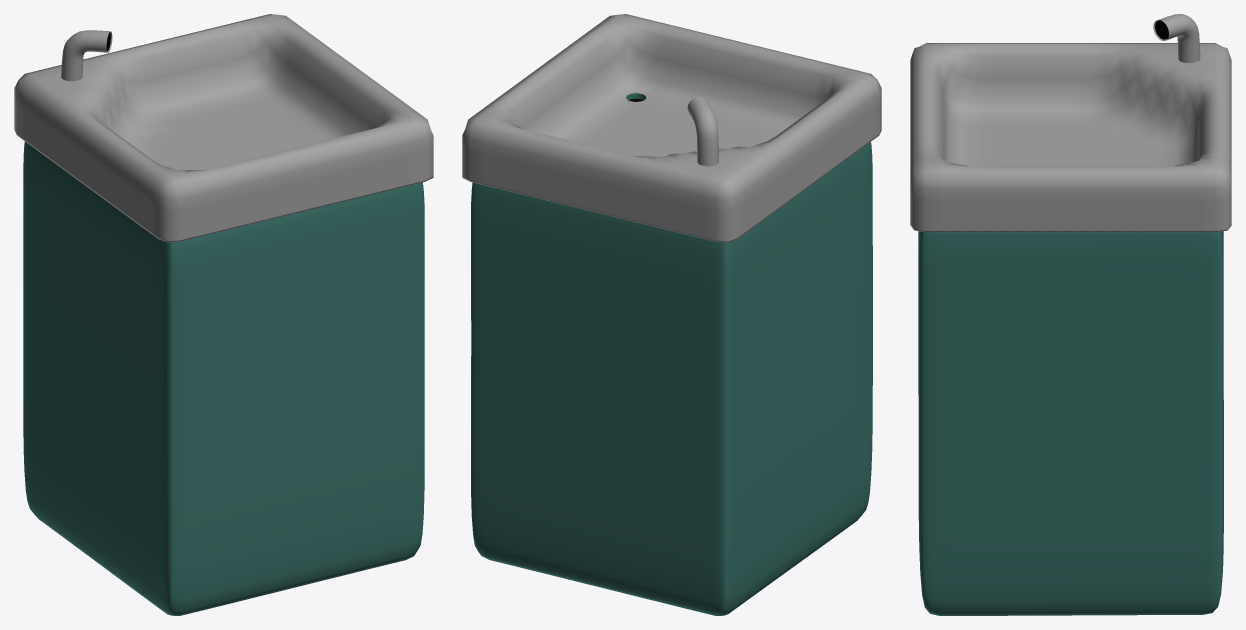
The model's file is WaterFountain.fbx.
3 renders of one model, left to right at view 1: azimuth 30°, elevation 25°; view 2: azimuth 150°, elevation 25°; view 3: azimuth 270°, elevation 25°, orthographic. The views are drawn at different scales.
Visible parts, largest first — view 1: group2; view 2: group2; view 3: group2.
Part boxes in pixels (box(x1,y1,x2,y2)): group2: box(14, 14, 433, 615); group2: box(462, 14, 881, 615); group2: box(910, 14, 1231, 615).
Size of the model in its own units: 1 by 1.73 by 1.
